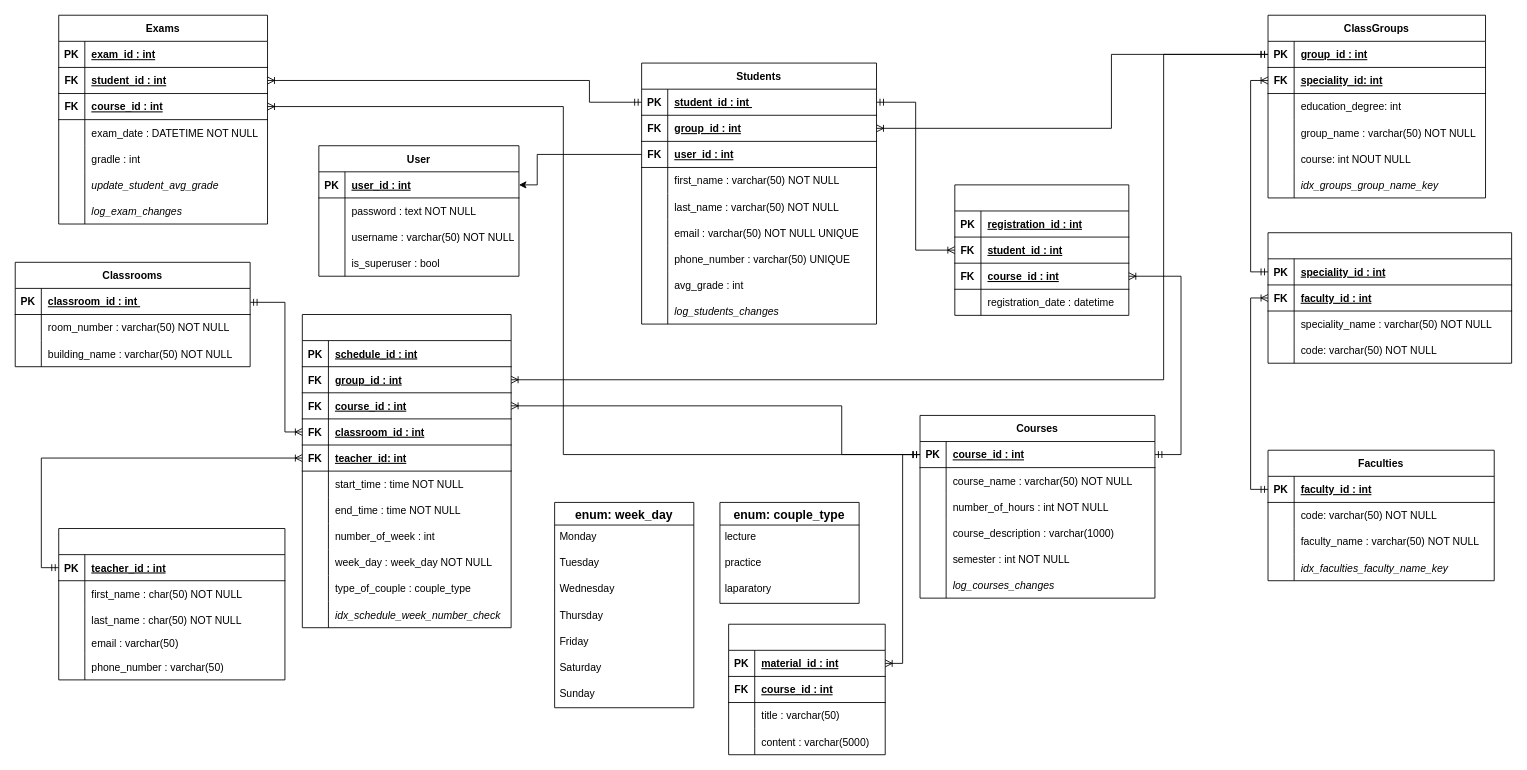
The diagram is 1527 pixels wide and 770 high, and some of its shapes have lost their labels. The box of each missing label's shape, as (x1, y1, x2, y2) in pixels:
CourseMaterial: (728, 623, 885, 755)
CourseRegistration: (954, 184, 1129, 315)
Schedules: (301, 314, 511, 628)
Specialities: (1267, 232, 1512, 363)
Teachers: (58, 528, 285, 680)
